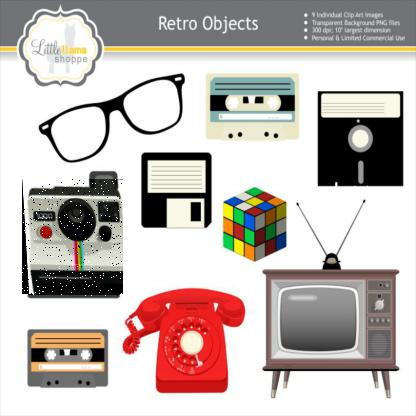Camera: (23, 181, 125, 299)
